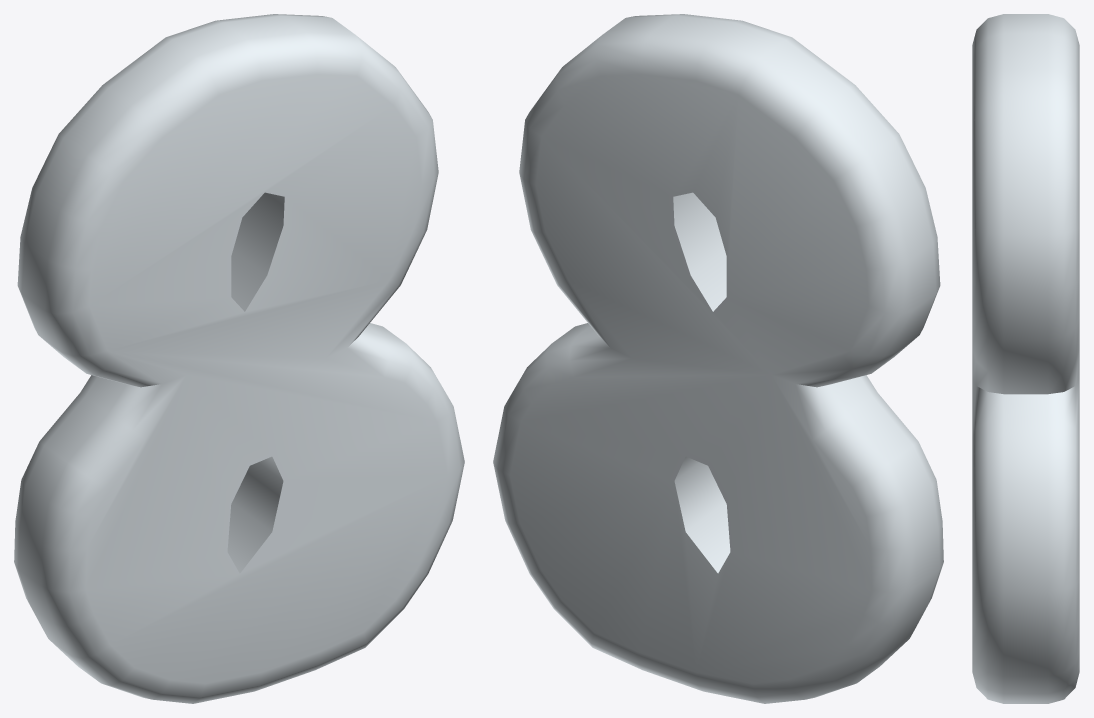
Rendered from NumberEight 1.fbx.
3 views of the same model, side by side, from view 1: azimuth 30°, elevation 25°; view 2: azimuth 150°, elevation 25°; view 3: azimuth 270°, elevation 25° (orthographic). The views are drawn at different scales.
Parts seen in each view (by area): view 1: Vert; view 2: Vert; view 3: Vert.
Part boxes in pixels (x1=…): Vert: x1=14, y1=14, x2=464, y2=703; Vert: x1=493, y1=14, x2=943, y2=703; Vert: x1=972, y1=14, x2=1079, y2=703.
Size of the model in its own units: 220 by 326 by 50.18.
